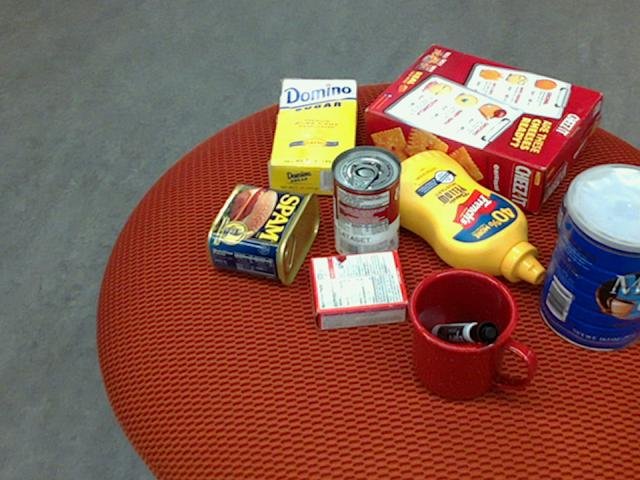cracker_box: (364, 43, 600, 211)
gelatin_box: (305, 252, 405, 330)
large_marker: (431, 320, 498, 343)
master_chef_can: (537, 163, 639, 351)
mug: (405, 267, 532, 400)
mustard_bottle: (375, 150, 543, 284)
potted_meat_can: (206, 183, 318, 284)
sugar_box: (268, 78, 356, 195)
tomato_soup_can: (329, 143, 400, 264)
tuna_fish_can: (555, 178, 639, 256)
